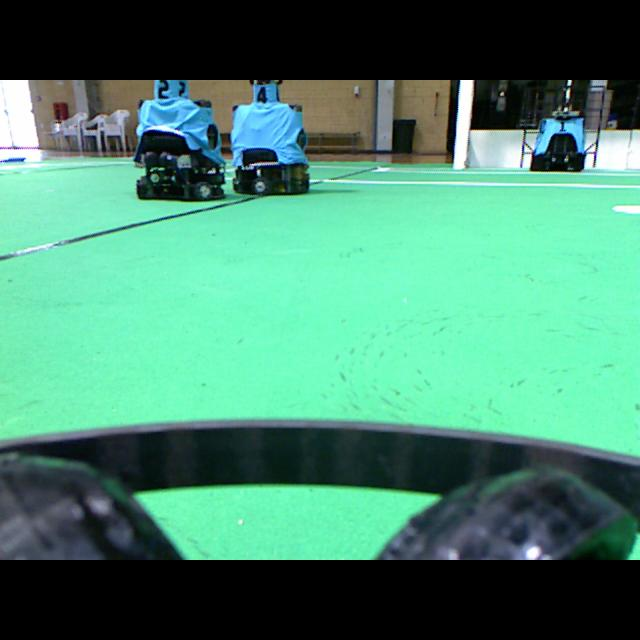goal: (453, 80, 473, 169)
